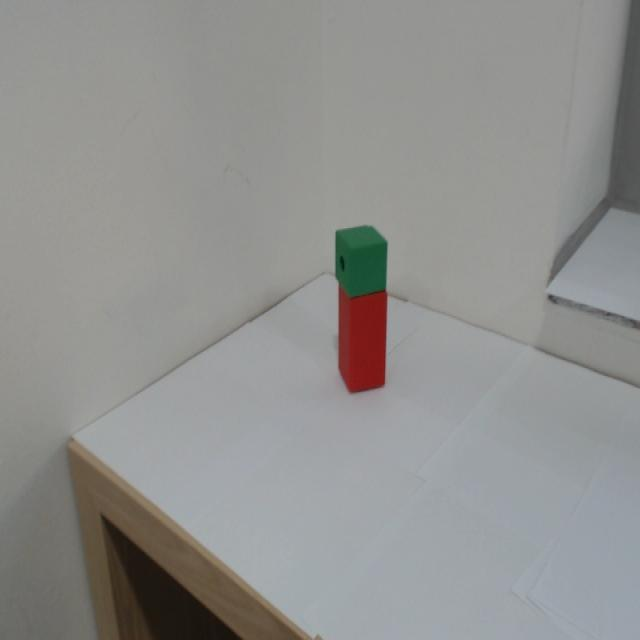cube: (325, 217, 391, 291)
